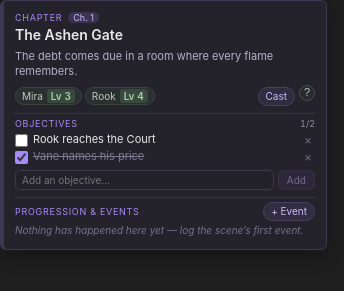
Test: GraphNode chapter workbench › logs XP from the card, defaulting to the point of view
Click the button "+ Event". click: (289, 211)
box: [263,202,315,221]
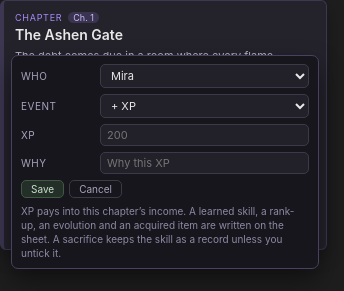
Result: the dropdown named "Who the event happens to in The Ashen Gate" shows "Mira" at [100,64,309,88]
Type "250" into the number field named "XP to award in The Ashen Gate". click: (204, 135)
box: [100,124,309,146]
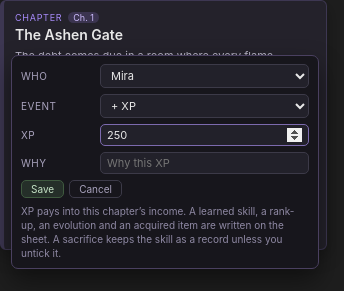
Type "Paid for a name at the toll gate" into the field named "Why the XP was awarded in The Ashen Gate". click: (204, 163)
box: [100,152,309,174]
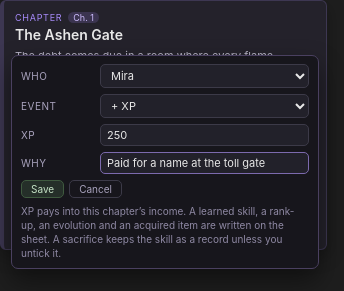
Click the button "Save". click: (43, 189)
box: [21,180,64,198]
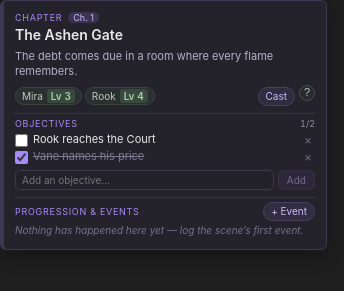
Result: the button "Save" is gone
